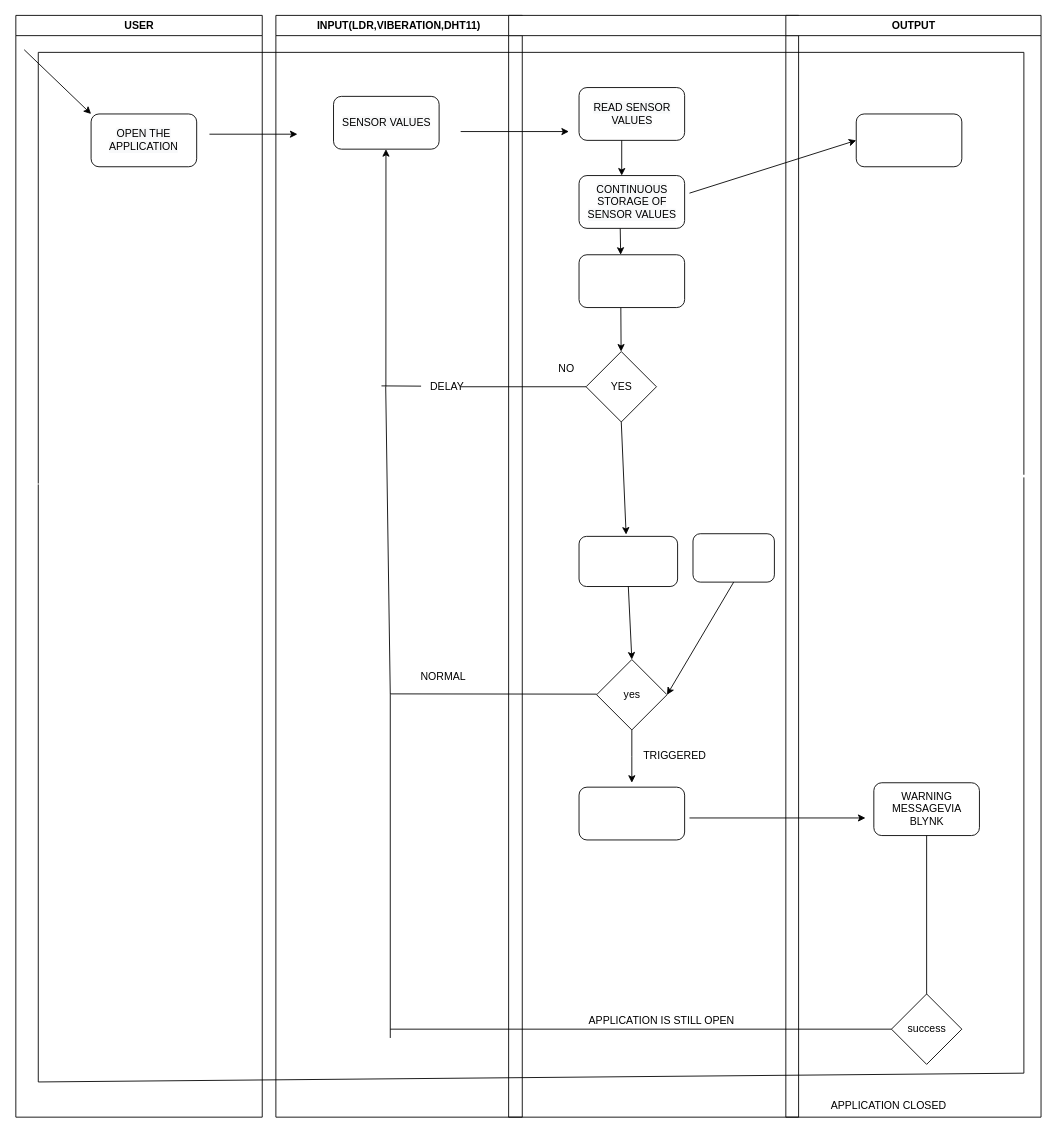
The diagram is 1056 pixels wide and 1133 high, and some of its shapes have lost their labels. Each missing label, with the box of its shape:
CHART ON THINGSPEAK PLATFORM: (855, 113, 962, 167)
CHECK LDR SENSOR VALUE: (692, 533, 774, 582)
CHECK VIBERATION VALUE TRIGGERED: (578, 535, 678, 587)
CHECK WHETHER SENSOR ARE IN ALERT CONDITION: (578, 254, 685, 308)
SEND DATA,HISTROY ,ALERT ON: (578, 786, 685, 840)
SYSTEM: (508, 15, 799, 1117)
